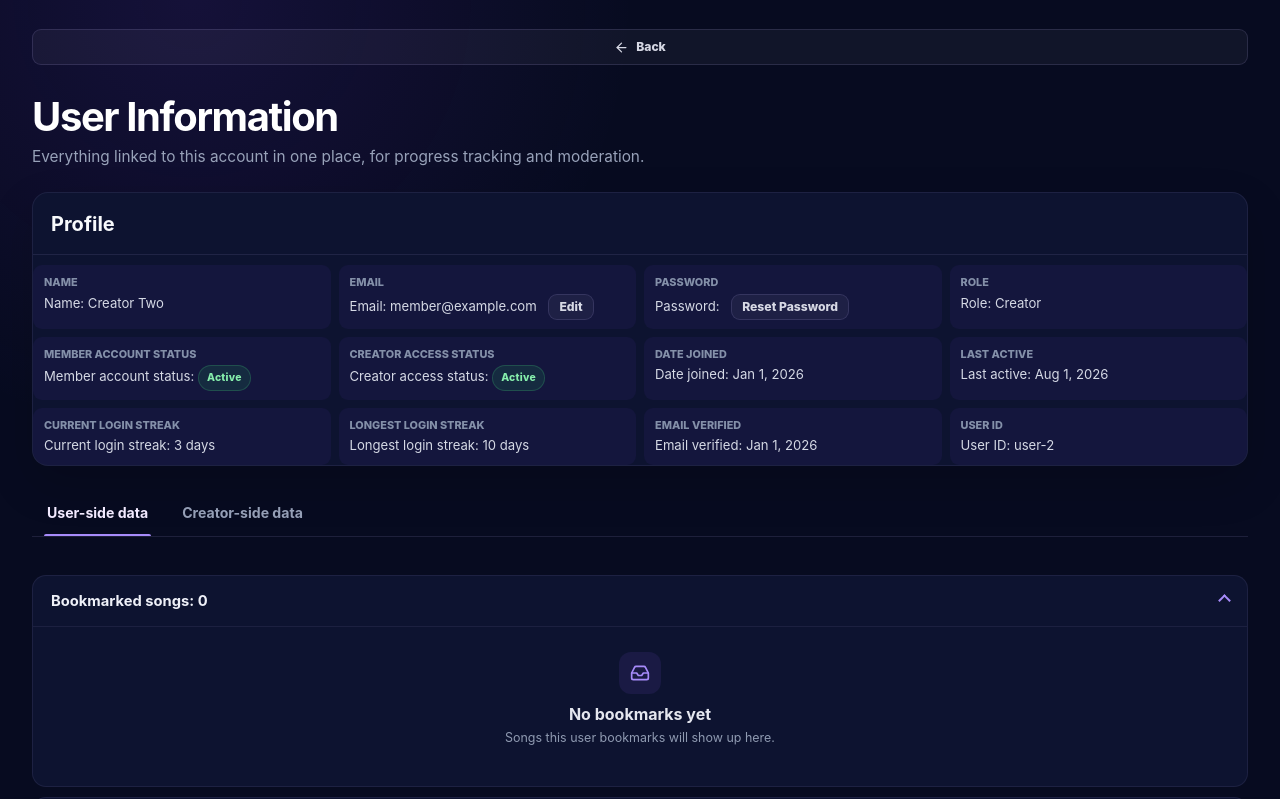
Test: Admin User Information page › shows Creator-side data tabs for a creator and loads stats lazily only after switching
This screenshot has width=1280, height=799.
Expected: the text "Name: Creator Two" is shown, [44,295,164,311]
Click the button "Creator-side data": click(242, 513) [167,490,318,536]
(page scrolled)
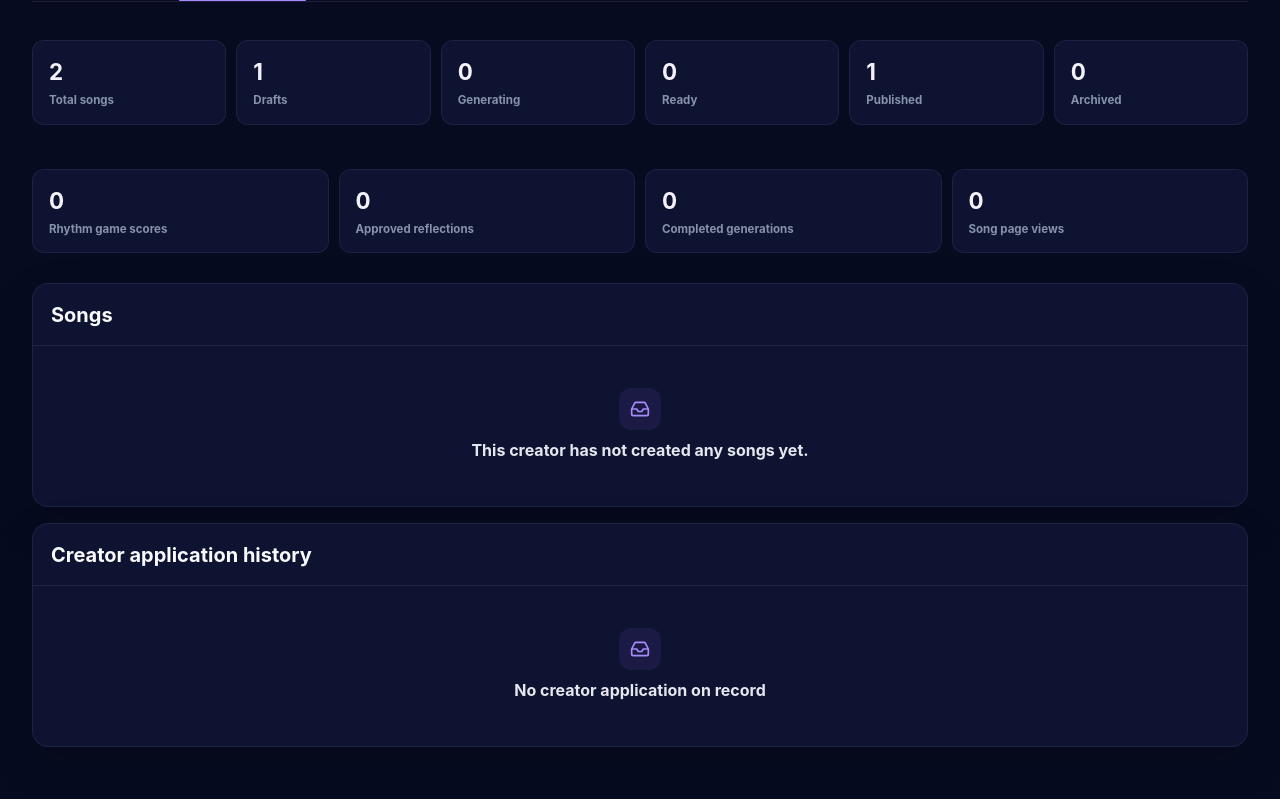
Expected: the heading "This creator has not created any songs yet." is shown, [471,438,809,462]
